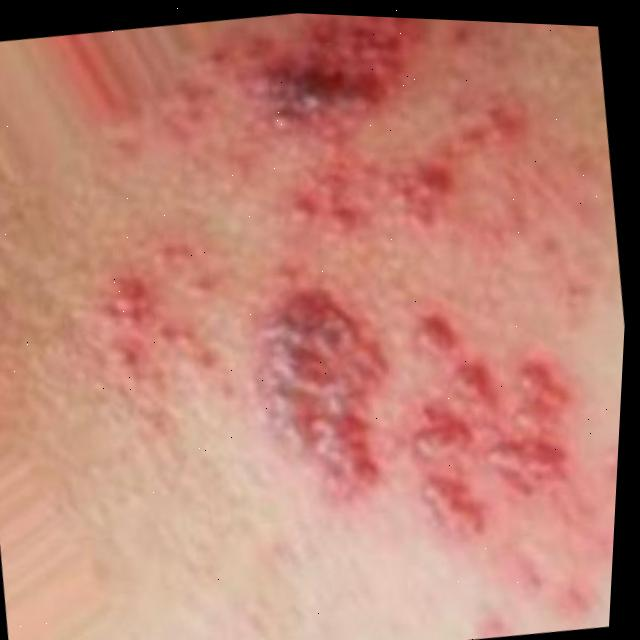Shingles: (186, 10, 634, 567)
